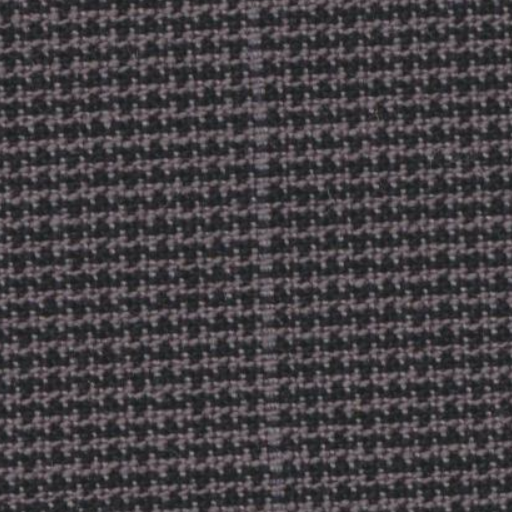TuoSha: (208, 7, 318, 508)
